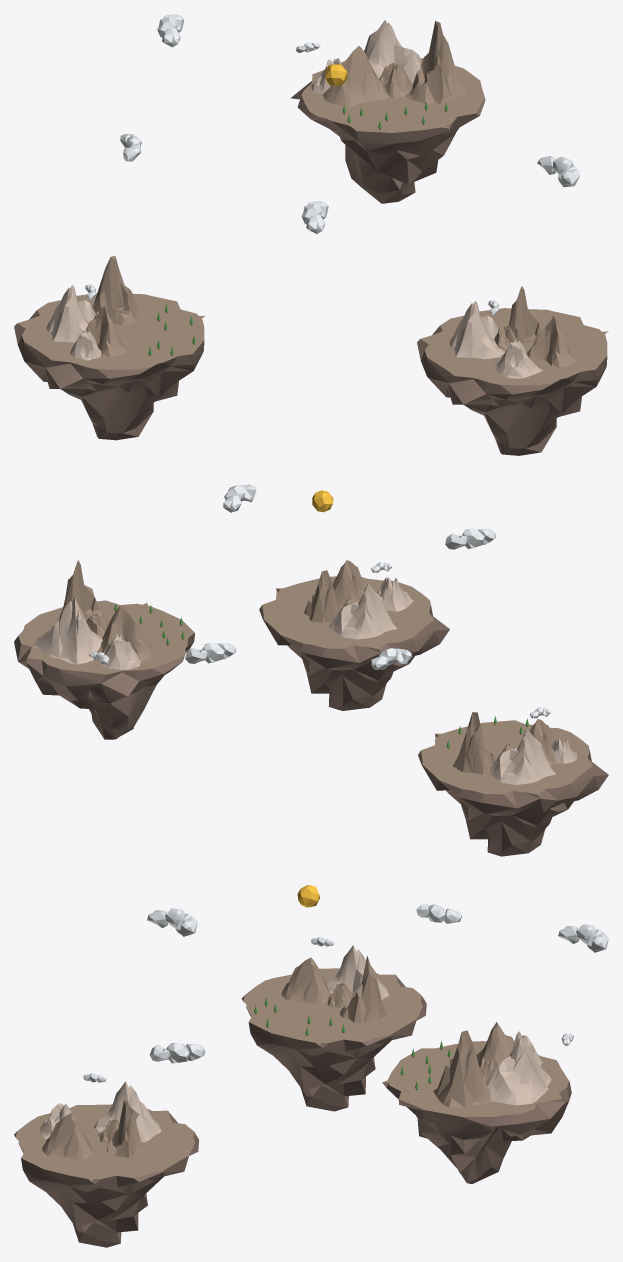
The model's file is island3.glb.
3 renders of one model, top to bottom at view 1: azimuth 30°, elevation 25°; view 2: azimuth 150°, elevation 25°; view 3: azimuth 270°, elevation 25°, orthographic. The views are drawn at different scales.
Parts seen in each view (by area): view 1: island_scene.obj.1; view 2: island_scene.obj.1; view 3: island_scene.obj.1.
Part boxes in pixels (<box>): island_scene.obj.1: <box>14,14,608,455</box>; island_scene.obj.1: <box>14,484,608,856</box>; island_scene.obj.1: <box>14,885,608,1247</box>.
Bounding box in the file's own units: 14.72 × 8.98 × 15.03.
